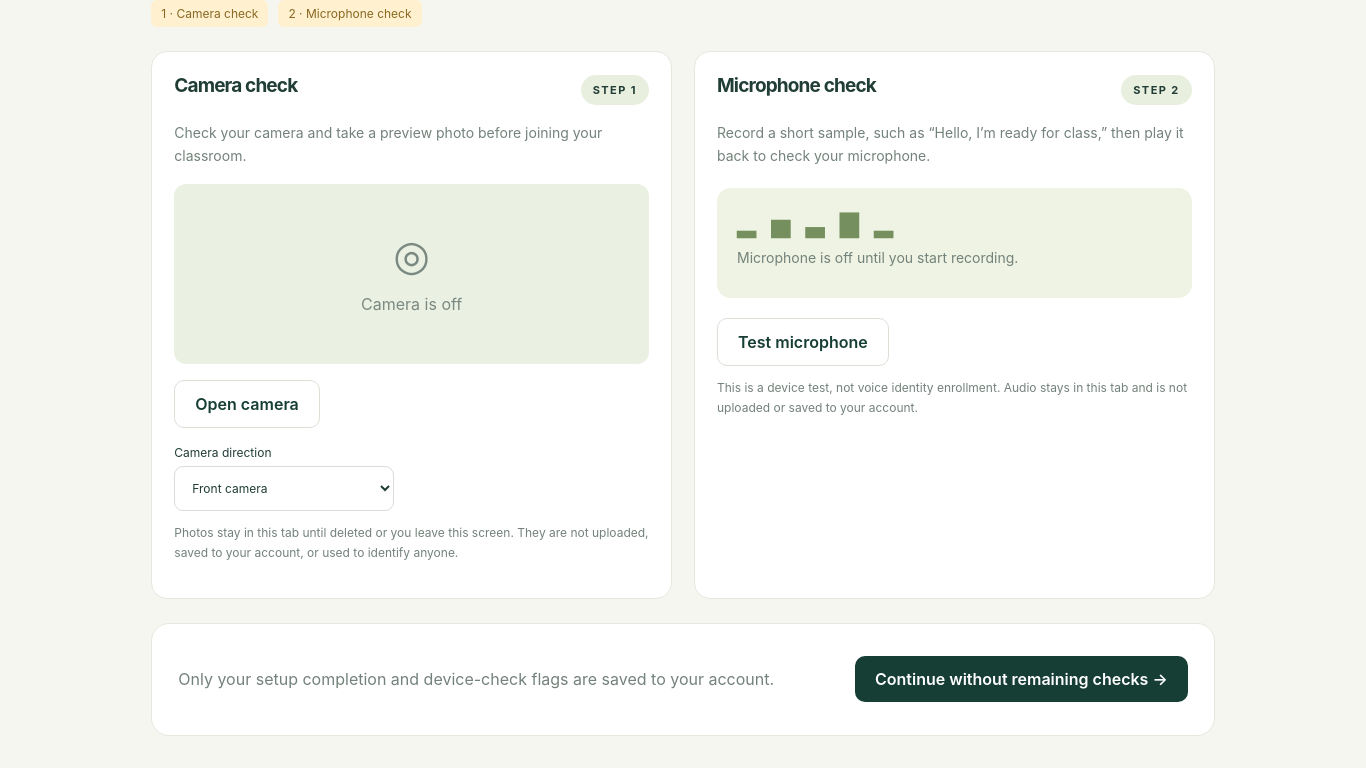
it: student sees first-login onboarding and can complete setup before joining an invitation
(page scrolled)
Click the button "Continue without remaining checks →" at (1021, 680), box [855,656,1188,702]
(page scrolled)
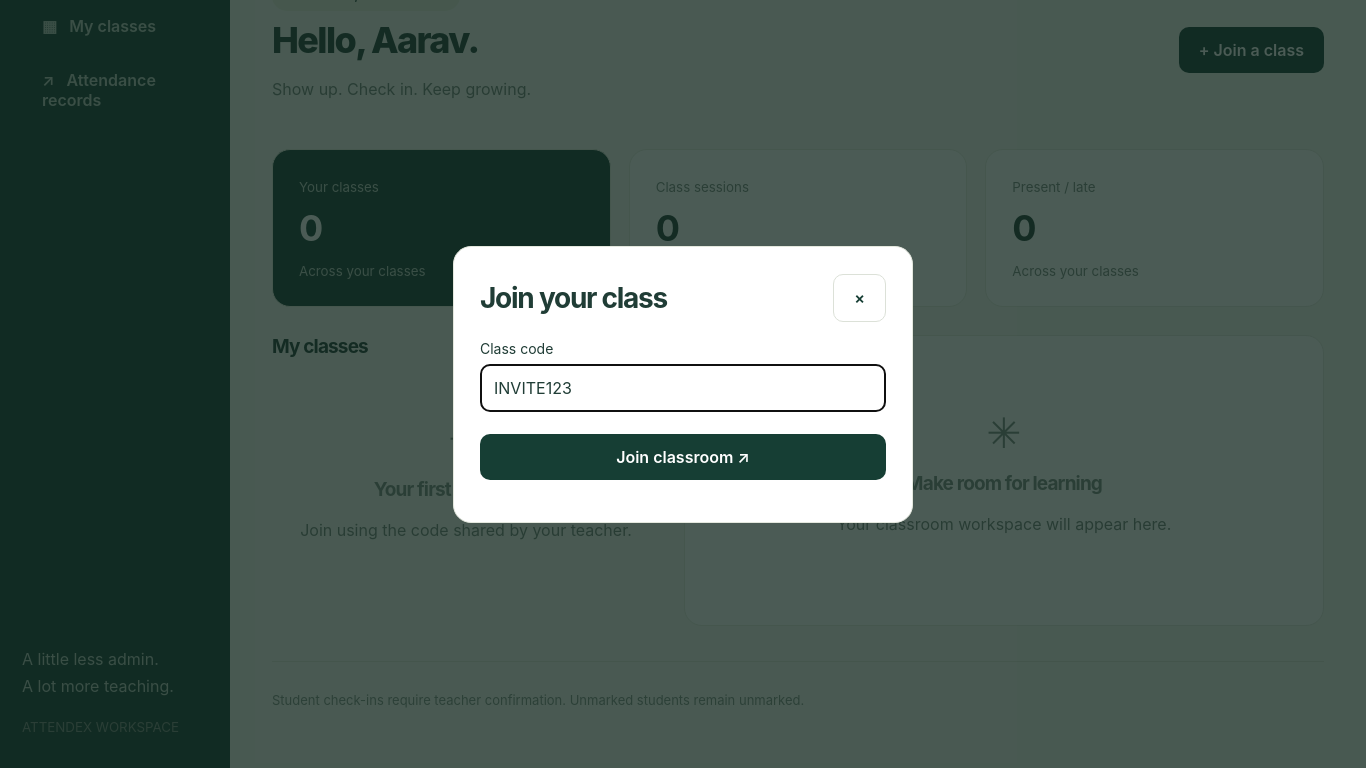
Result: the dialog is shown at [453,246,913,522]
Result: the field labelled "Class code" holds "INVITE123" at [480,364,886,412]
